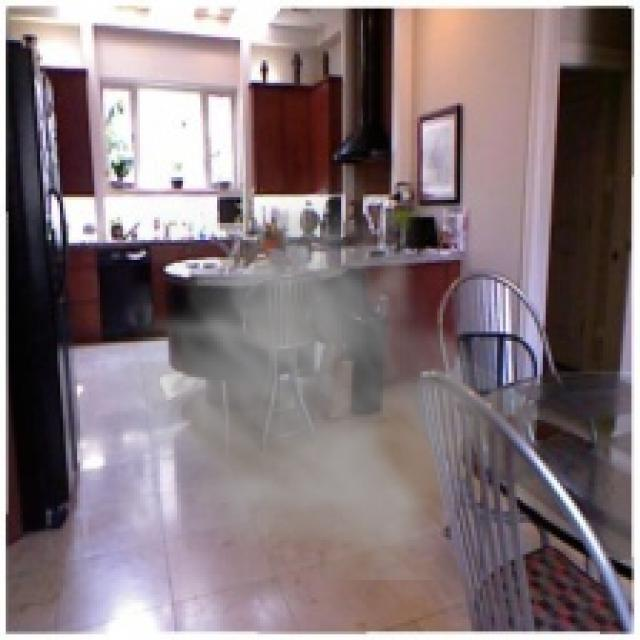Smoke: (103, 163, 523, 580)
